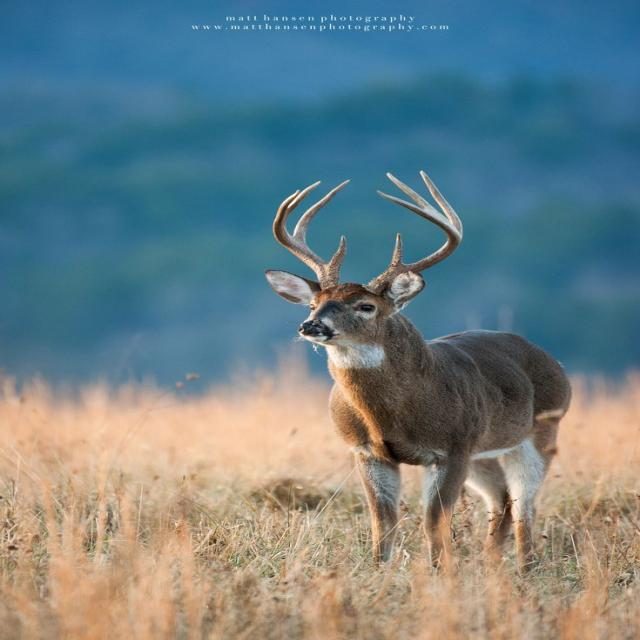L-F: (362, 189, 462, 295)
L-G1: (387, 232, 406, 269)
R-F: (272, 189, 340, 293)
R-G1: (327, 235, 348, 272)
R-G2: (292, 179, 351, 246)
